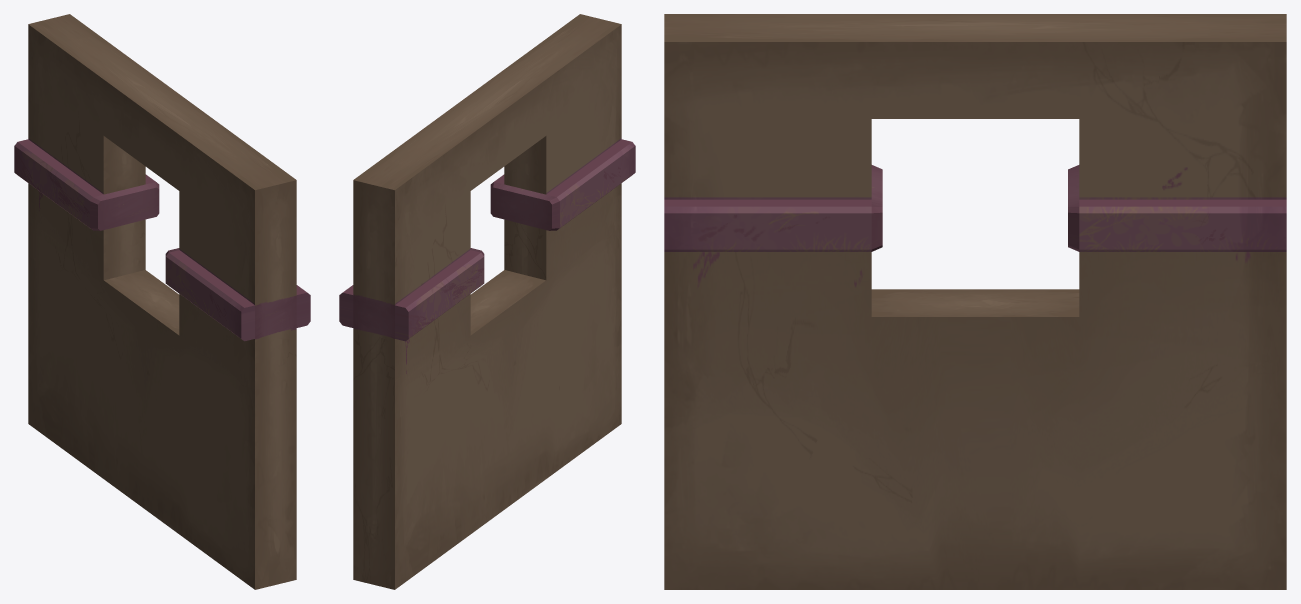
Rendered from Gates_Hole.fbx.
3 renders of one model, left to right at view 1: azimuth 30°, elevation 25°; view 2: azimuth 150°, elevation 25°; view 3: azimuth 270°, elevation 25°, orthographic. The views are drawn at different scales.
Parts seen in each view (by area): view 1: Gate_1; view 2: Gate_1; view 3: Gate_1.
Boxes of the visible parts, x1,y1,x2,y2 form: Gate_1: (14,14,310,589); Gate_1: (339,14,635,589); Gate_1: (664,14,1286,589).
Bounding box in the file's own units: 3.31 × 18.33 × 18.86.
Materials: 1 (1 with a texture image).
